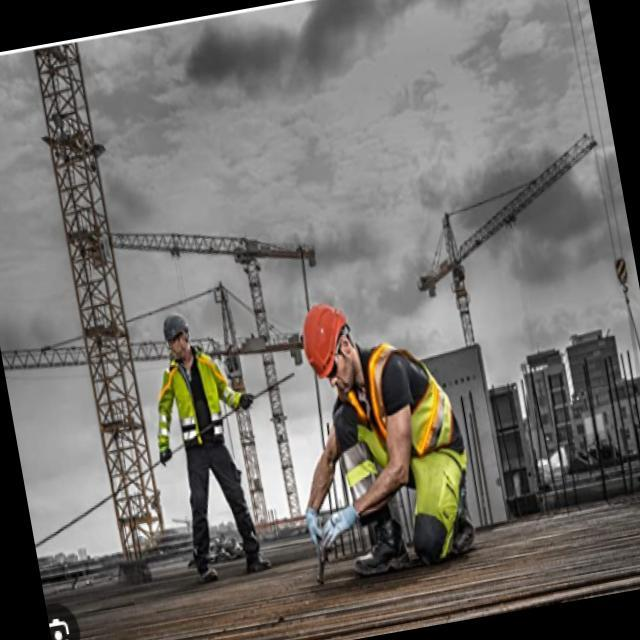hard_hat: (292, 295, 362, 391), (158, 308, 196, 365)
vest: (319, 330, 464, 473), (158, 342, 239, 455)
